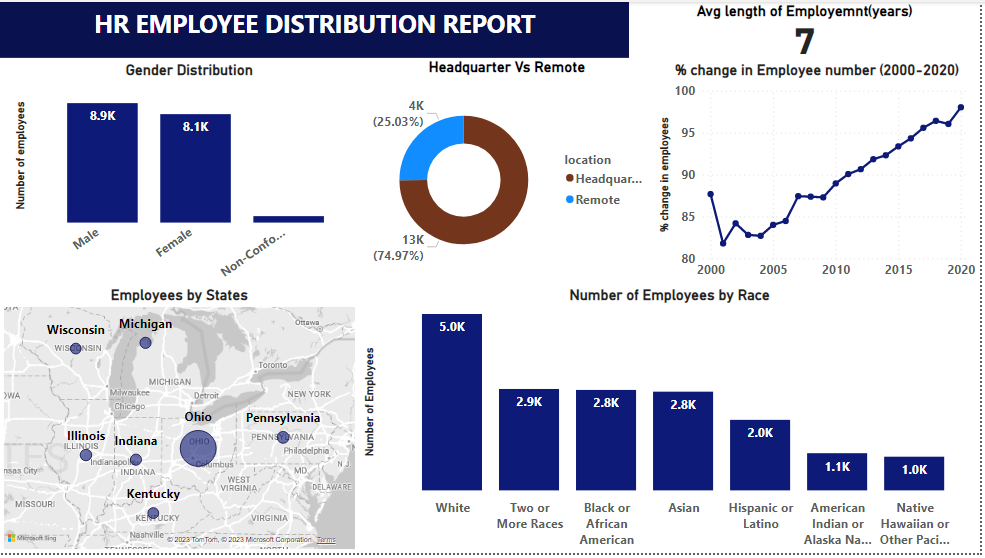

This screenshot's page, from the dashboard's own definition file:
{"tool":"powerbi","page":{"name":"Page 1","canvas":[1280,720],"ordinal":0},"visuals":[{"type":"textbox","box":[0,0,822,73.3],"z":0},{"type":"columnChart","title":"Gender Distribution","fields":{"Category":["gender.gender"],"Y":["Sum(gender.count)"]},"box":[12.9,77.6,468.5,297.5],"z":1000},{"type":"donutChart","title":"Headquarter Vs Remote","fields":{"Category":["emp_loc_count.location"],"Y":["Sum(emp_loc_count.location_count)"]},"box":[468.5,73.3,386.6,297.5],"z":2000},{"type":"lineChart","title":"% change in Employee number (2000-2020)","fields":{"Category":["net_percent_change.year"],"Y":["Sum(net_percent_change.net_change_percent)"]},"box":[855.1,77.6,425.4,293.2],"z":3000},{"type":"card","title":"Avg length of Employemnt(years)","fields":{"Values":["Sum(avg_employment_length.avg_length_employment)"]},"box":[822,0,458.4,73.3],"z":4000},{"type":"map","title":"Employees by States","fields":{"Size":["Sum(emp_state_count.emp_count)"],"Category":["emp_state_count.location_state"]},"box":[0,370.8,468.5,349.2],"z":5000},{"type":"columnChart","title":"Number of Employees by Race","fields":{"Category":["race.race"],"Y":["Sum(race.count)"]},"box":[468.5,370.8,812,349.2],"z":6000}]}

Visuals, with their boxes in screenshot pixels (x1, y1, x2, y2), scaled from the page's 1280x720 canvas onto the 985x558 screenshot:
textbox: [left=0, top=0, right=633, bottom=57]
"Gender Distribution" columnChart: [left=10, top=60, right=370, bottom=291]
"Headquarter Vs Remote" donutChart: [left=361, top=57, right=658, bottom=287]
"% change in Employee number (2000-2020)" lineChart: [left=658, top=60, right=984, bottom=287]
"Avg length of Employemnt(years)" card: [left=633, top=0, right=984, bottom=57]
"Employees by States" map: [left=0, top=287, right=361, bottom=557]
"Number of Employees by Race" columnChart: [left=361, top=287, right=984, bottom=557]
